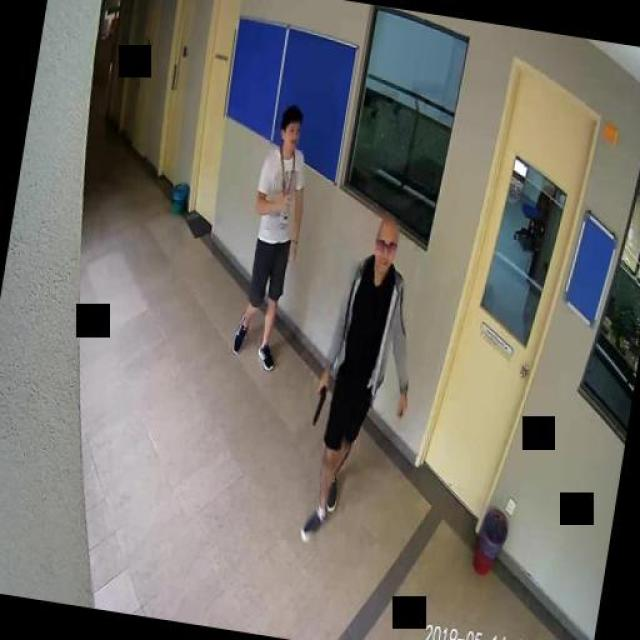gun: (310, 375, 328, 424)
